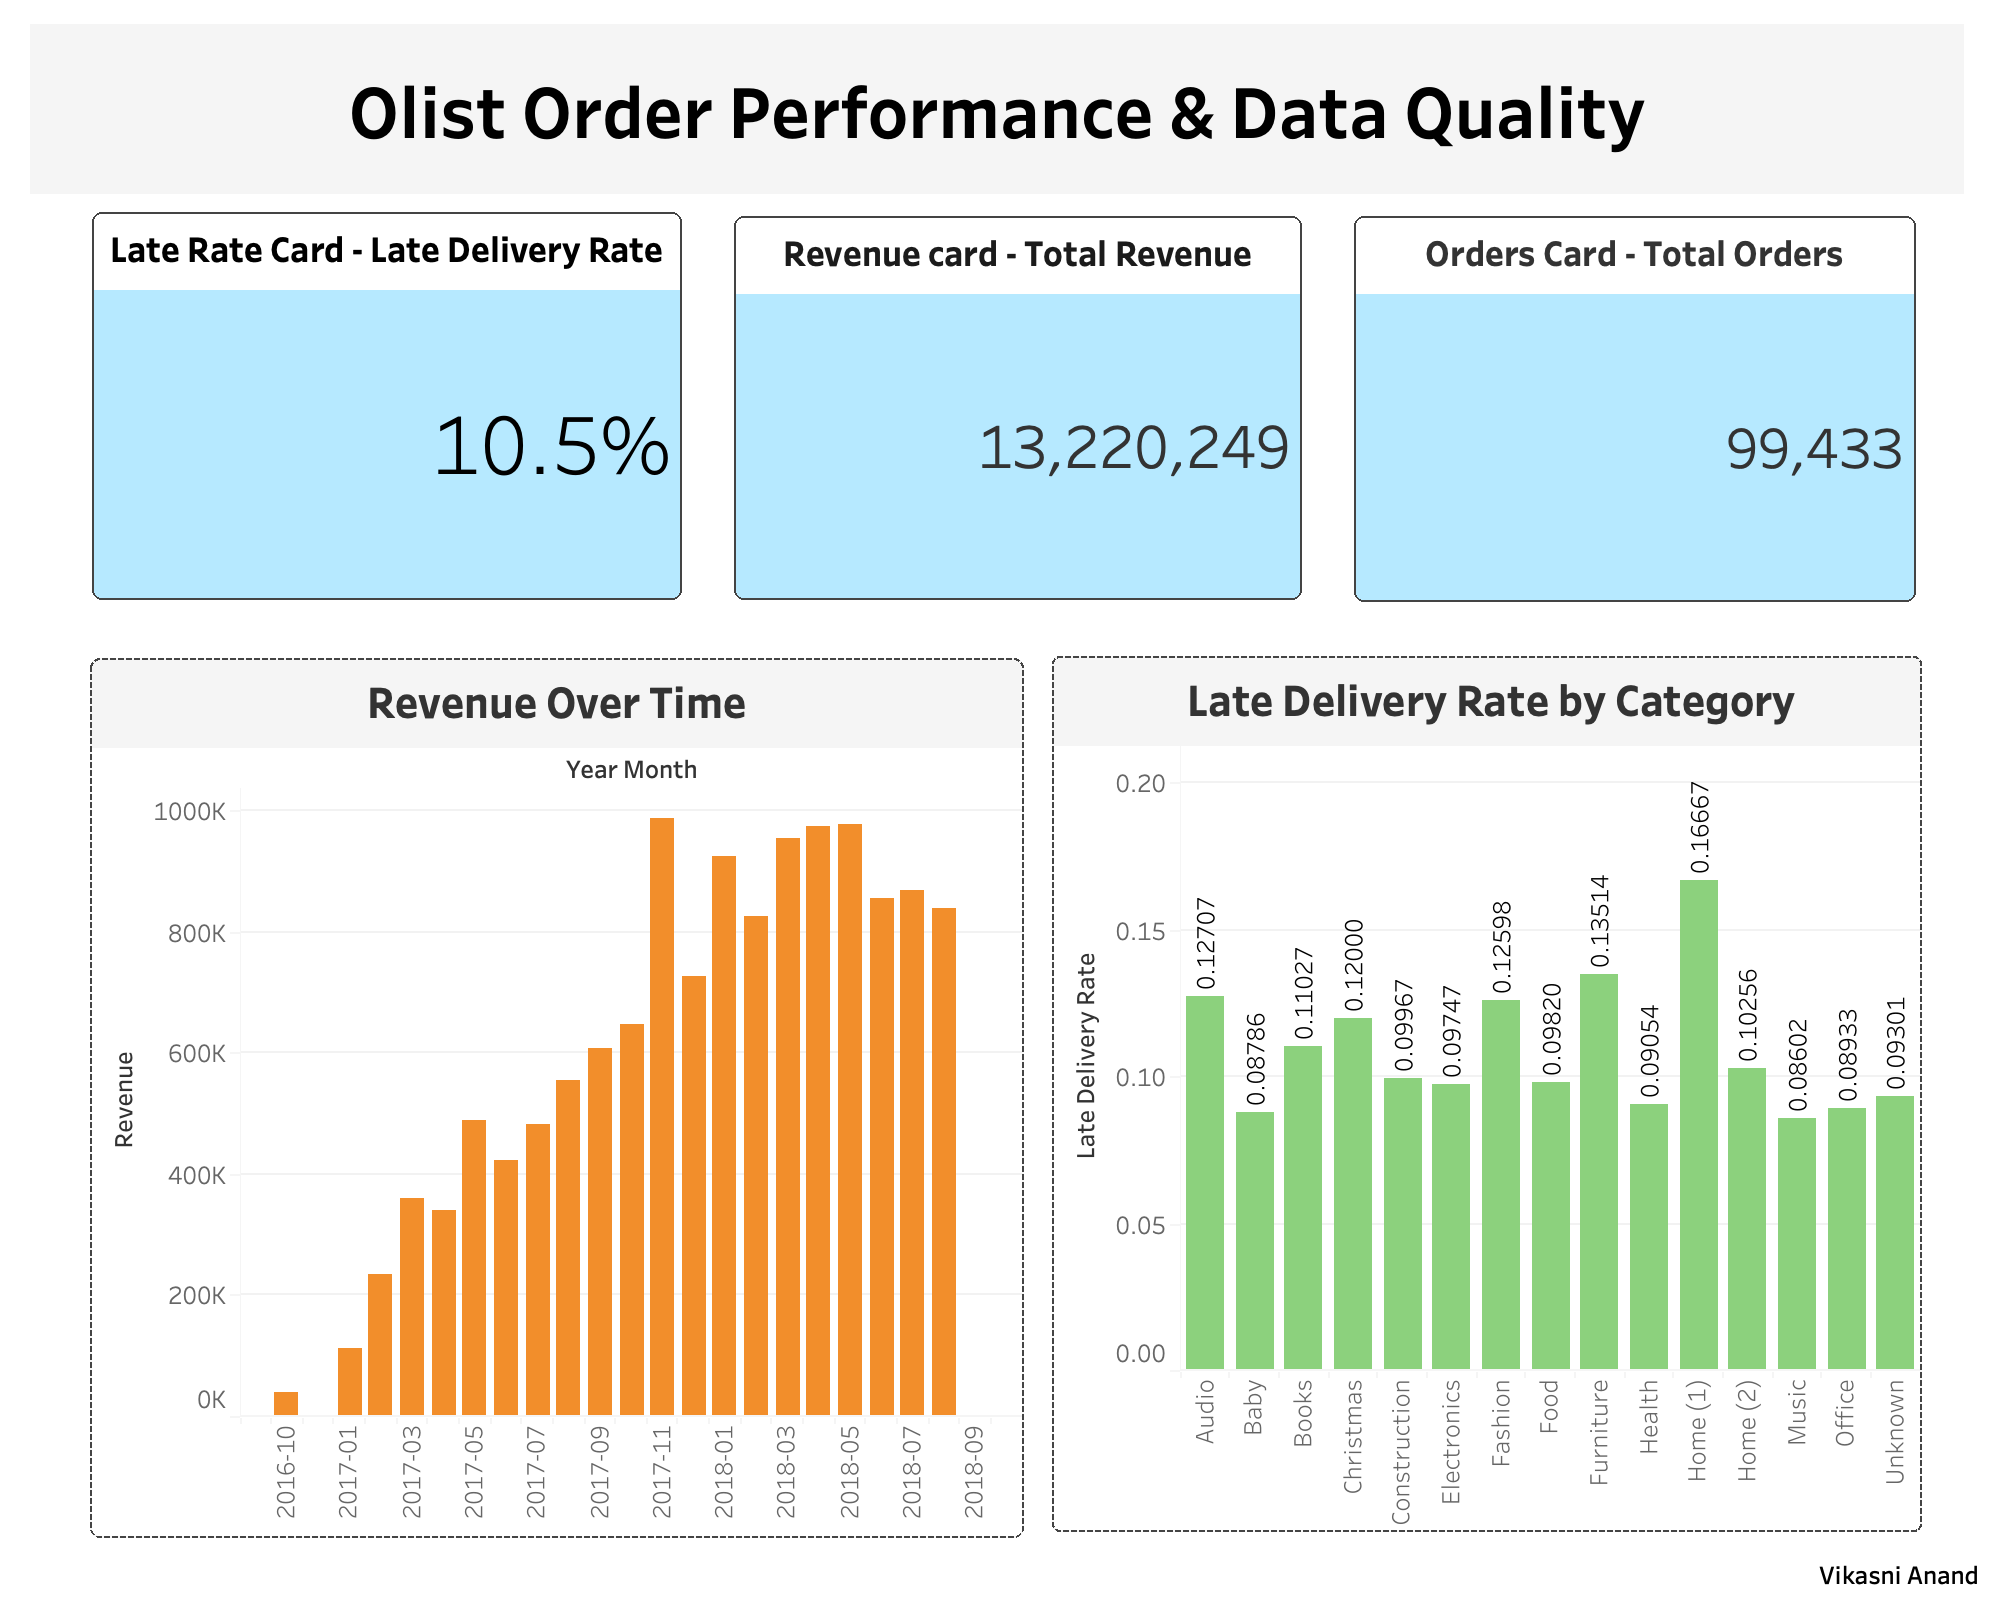

The page's visual inventory and layout, read from the dashboard file:
{"tool":"tableau","page":{"name":"Dashboard 1","canvas":[1000,800],"ordinal":0},"visuals":[{"type":"title","box":[8,8,984,34]},{"type":"worksheet","title":"Sheet 4","mark":"Text","box":[8,42,357,73.6]},{"type":"worksheet","title":"Sheet 2","mark":"Automatic","rows":["seller_id"],"cols":["avg_handover_days"],"box":[365,42,301,412.3]},{"type":"worksheet","title":"Sheet 7","mark":"Text","rows":["table_name","check_name","severity"],"box":[666,42,326,749.8]},{"type":"worksheet","title":"Sheet 5","mark":"Text","box":[8,115.6,357,86.6]},{"type":"worksheet","title":"Sheet 6","mark":"Text","box":[8,202.2,357,86.6]},{"type":"worksheet","title":"Sheet 1","mark":"Automatic","rows":["revenue"],"cols":["year_month"],"box":[8,288.8,357,503.2]},{"type":"worksheet","title":"Sheet 3","mark":"Automatic","rows":["late_rate"],"cols":["category_en"],"box":[365,454.3,301,337.7]}]}

Visuals, with their boxes in screenshot pixels (x1, y1, x2, y2), scaled from the page's 1000x800 canvas onto the 2000x1600 screenshot:
title: [16, 16, 1984, 84]
"Sheet 4" worksheet (Text marks): [16, 84, 730, 231]
"Sheet 2" worksheet: [730, 84, 1332, 909]
"Sheet 7" worksheet (Text marks): [1332, 84, 1984, 1584]
"Sheet 5" worksheet (Text marks): [16, 231, 730, 404]
"Sheet 6" worksheet (Text marks): [16, 404, 730, 578]
"Sheet 1" worksheet: [16, 578, 730, 1584]
"Sheet 3" worksheet: [730, 909, 1332, 1584]
